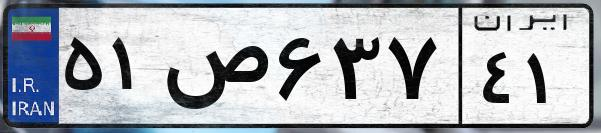1: (525, 38, 570, 115), (110, 28, 158, 98)
3: (330, 28, 385, 110)
4: (475, 38, 525, 113)
5: (57, 26, 110, 100)
6: (270, 28, 330, 110)
7: (385, 28, 445, 110)
ص: (158, 20, 270, 120)
